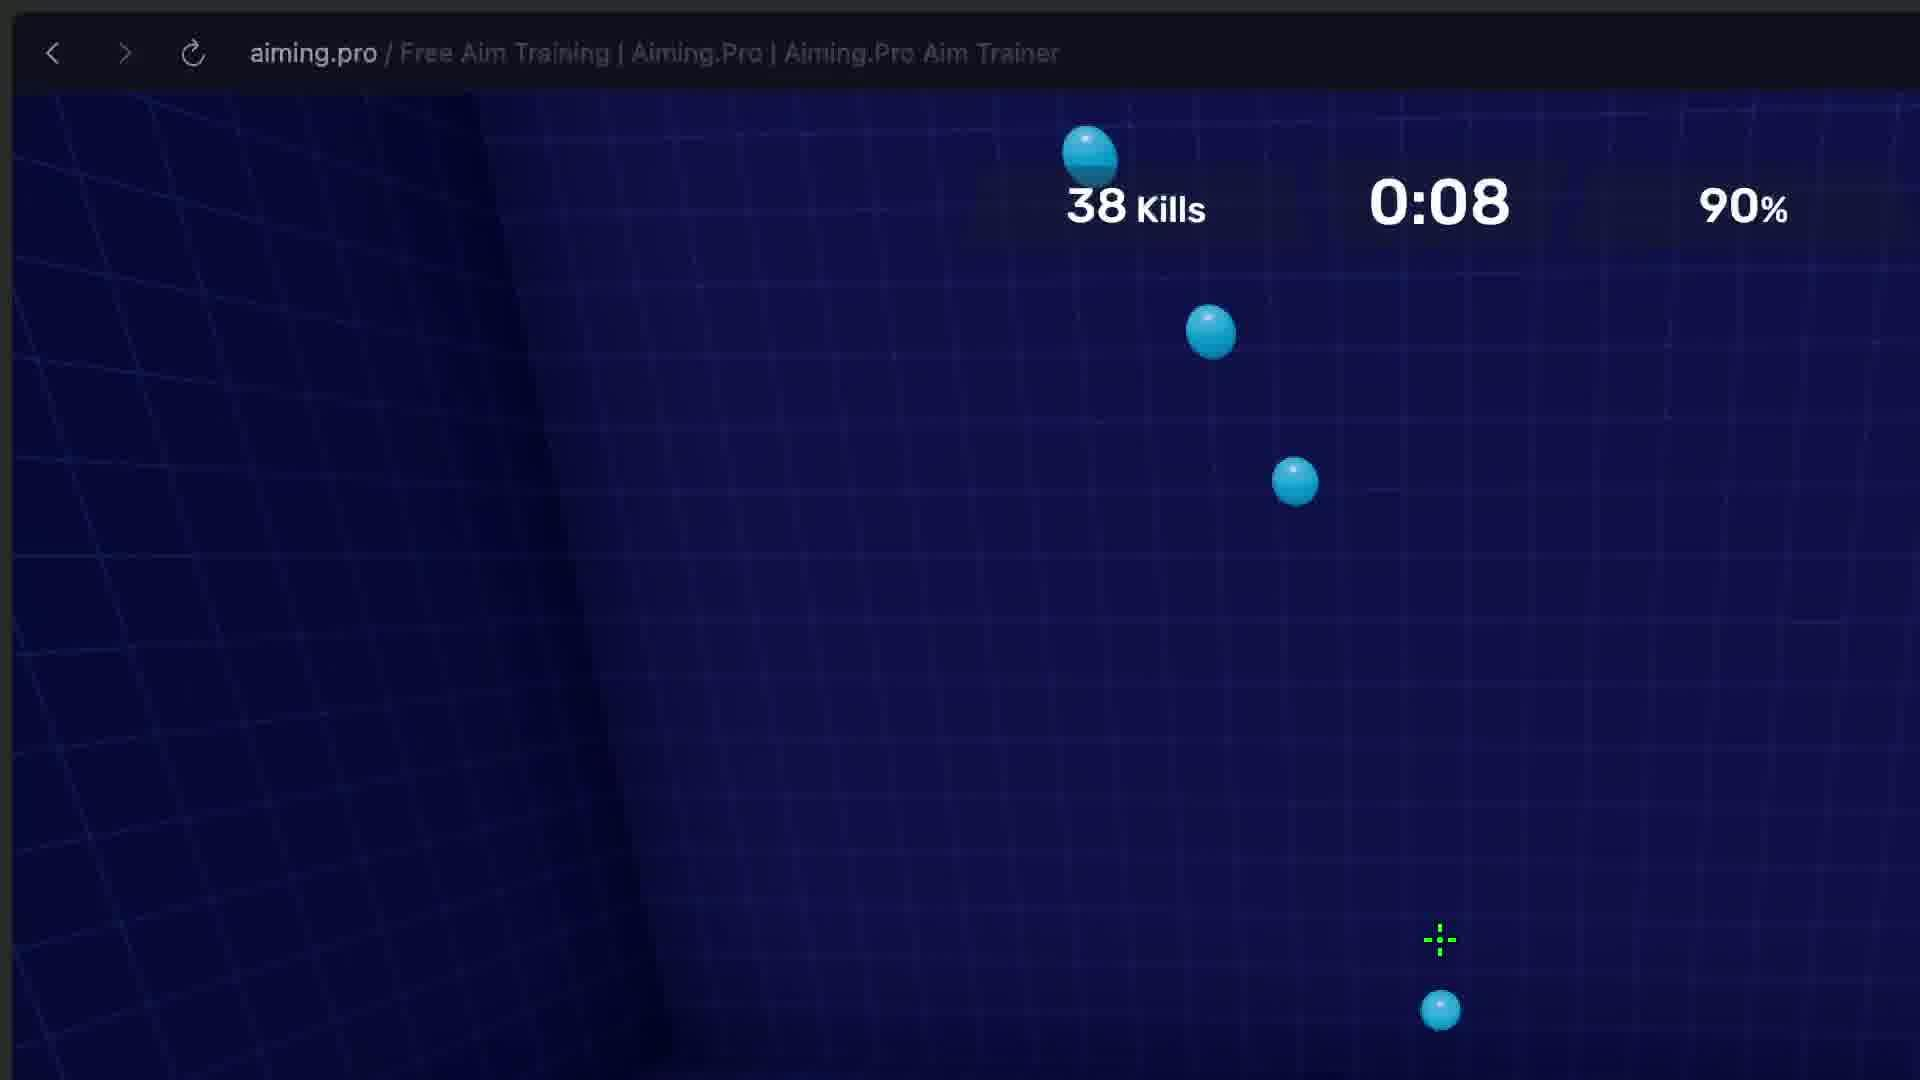target: (1063, 125, 1117, 189), (1185, 305, 1236, 359), (1271, 458, 1319, 506), (1422, 989, 1460, 1031)
